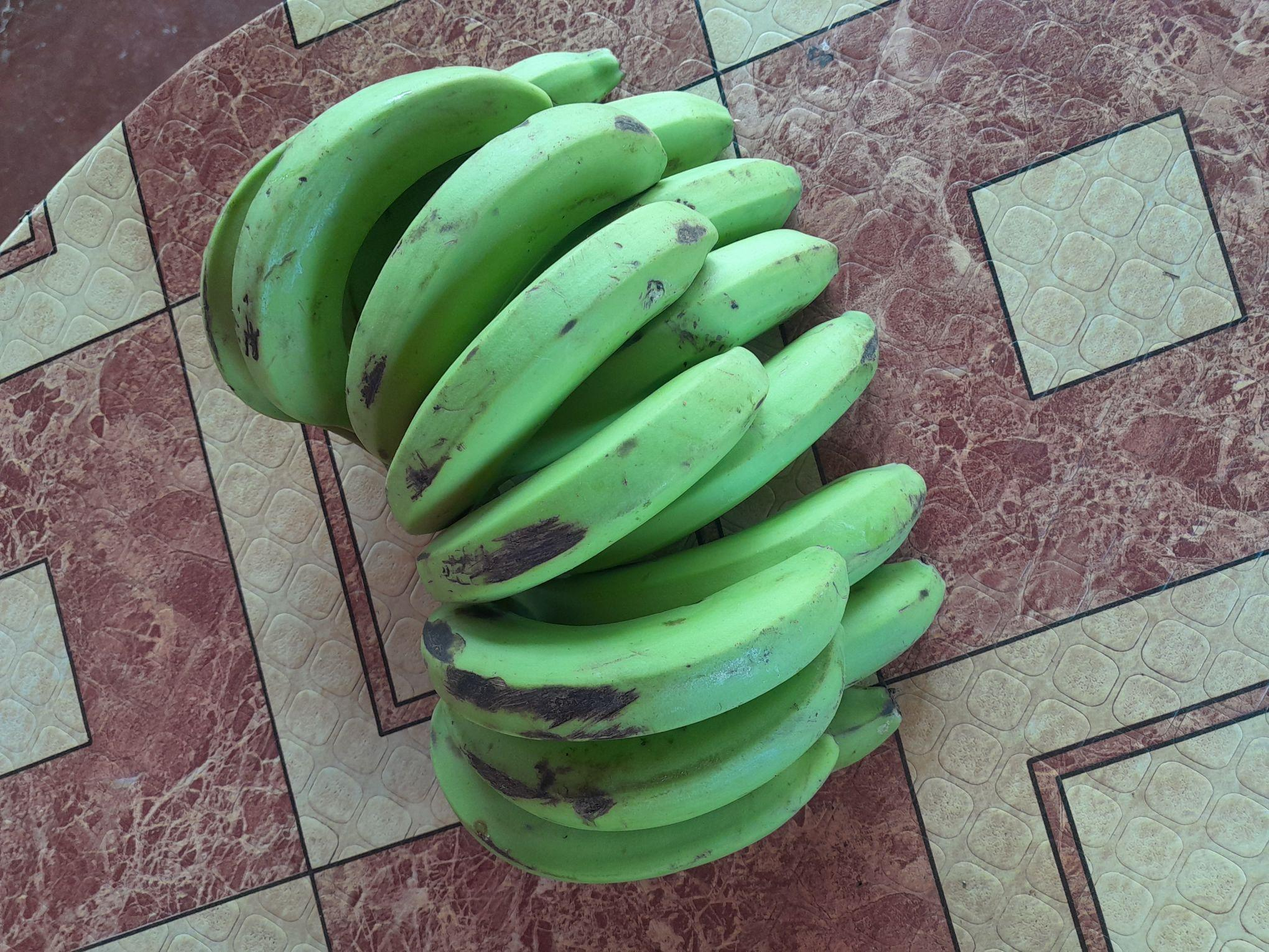Banana Unripe: (231, 67, 550, 429), (347, 104, 667, 461), (387, 201, 716, 533), (416, 347, 768, 602), (501, 228, 838, 478), (421, 545, 850, 741), (434, 632, 845, 831), (431, 704, 838, 883), (600, 312, 877, 565), (498, 464, 927, 625), (533, 159, 803, 275), (201, 139, 295, 421), (840, 560, 944, 683), (606, 92, 734, 175), (503, 47, 622, 104), (825, 687, 902, 771)
